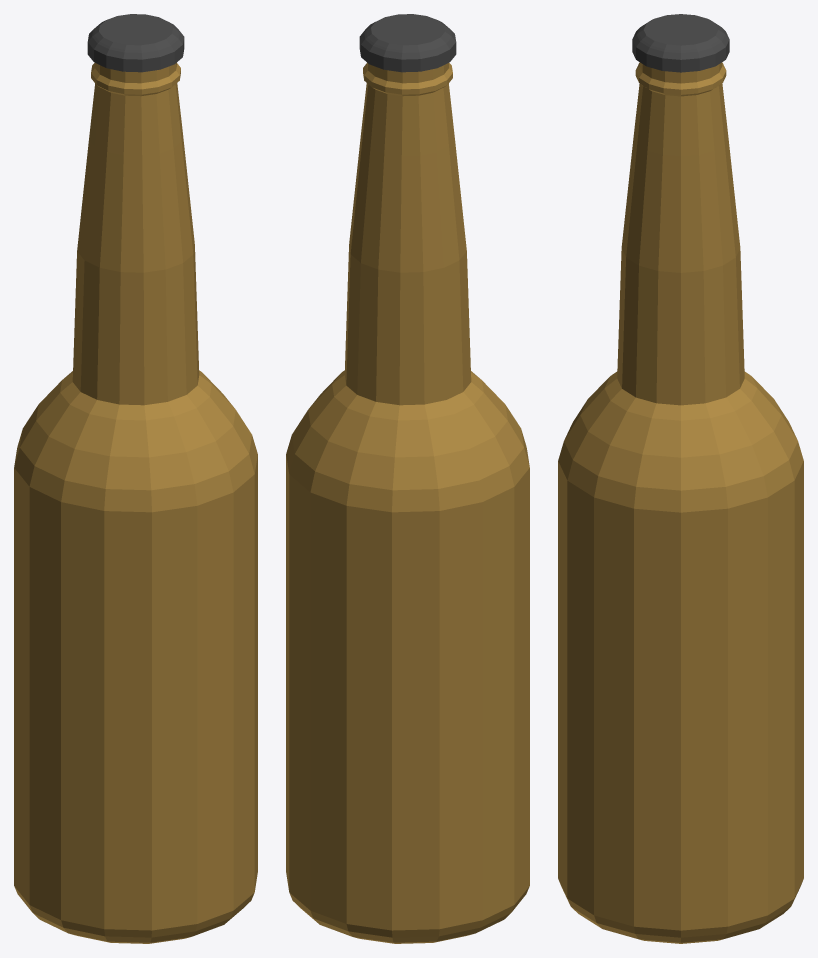
Rendered from beer.fbx.
3 renders of one model, left to right at view 1: azimuth 30°, elevation 25°; view 2: azimuth 150°, elevation 25°; view 3: azimuth 270°, elevation 25°, orthographic.
Parts seen in each view (by area): view 1: bottle, krichka; view 2: bottle, krichka; view 3: bottle, krichka.
Boxes of the visible parts, left/top/right/bottom form: bottle: left=14, top=62, right=257, bottom=943; krichka: left=87, top=14, right=184, bottom=72; bottle: left=286, top=62, right=529, bottom=943; krichka: left=359, top=14, right=456, bottom=72; bottle: left=558, top=62, right=803, bottom=943; krichka: left=632, top=14, right=729, bottom=72.
Size of the model in its own units: 123 by 485 by 123.
